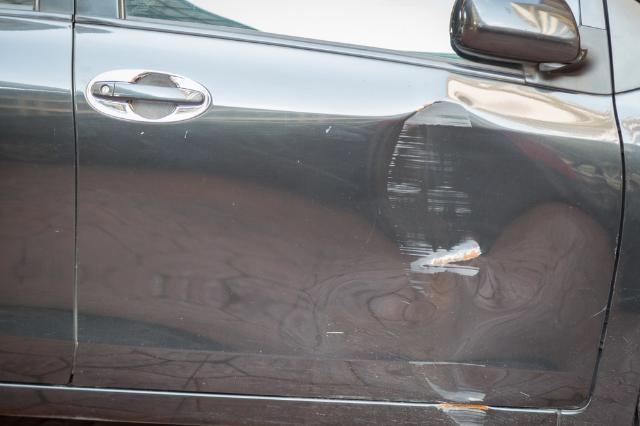dent: (352, 73, 597, 404)
scratch: (388, 99, 476, 301), (436, 400, 490, 426)
